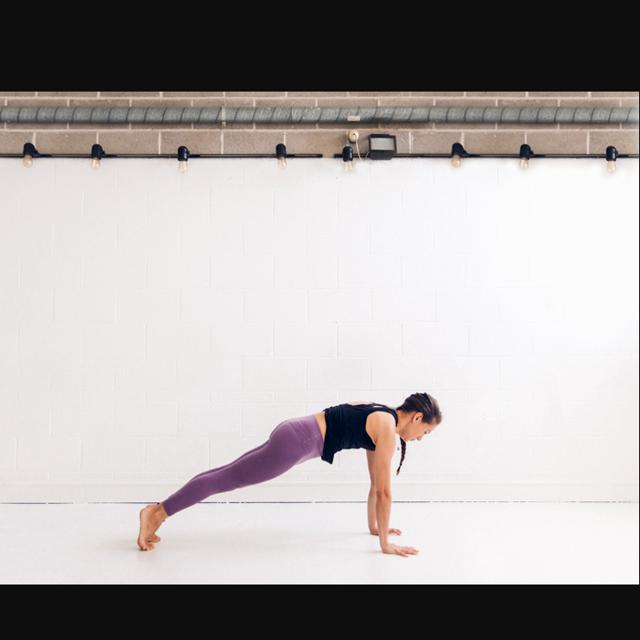Plank_Pose: (126, 387, 458, 564)
